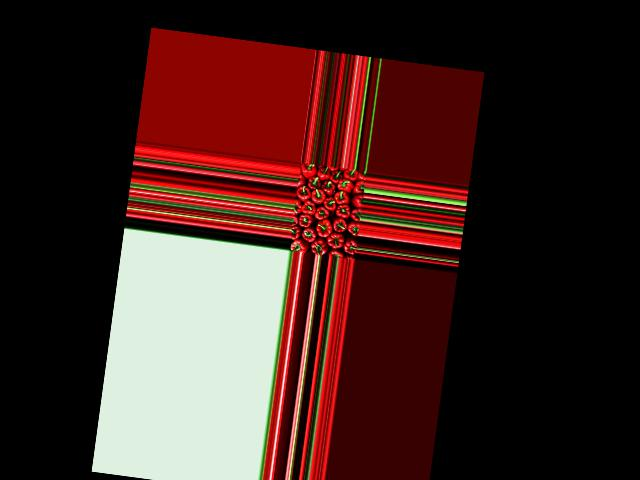bell_pepper: (299, 163, 315, 178)
